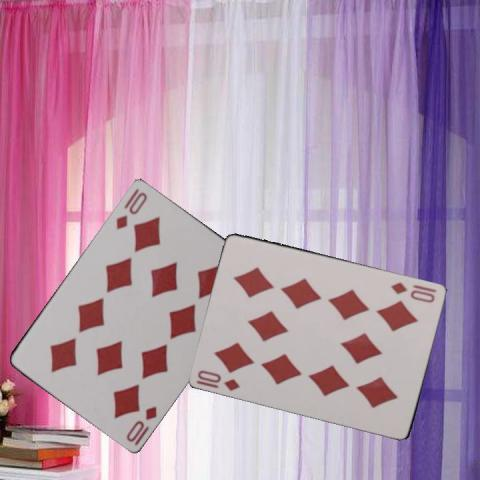10d: (112, 188, 148, 230), (123, 403, 158, 446), (388, 279, 437, 304), (194, 367, 242, 392)
